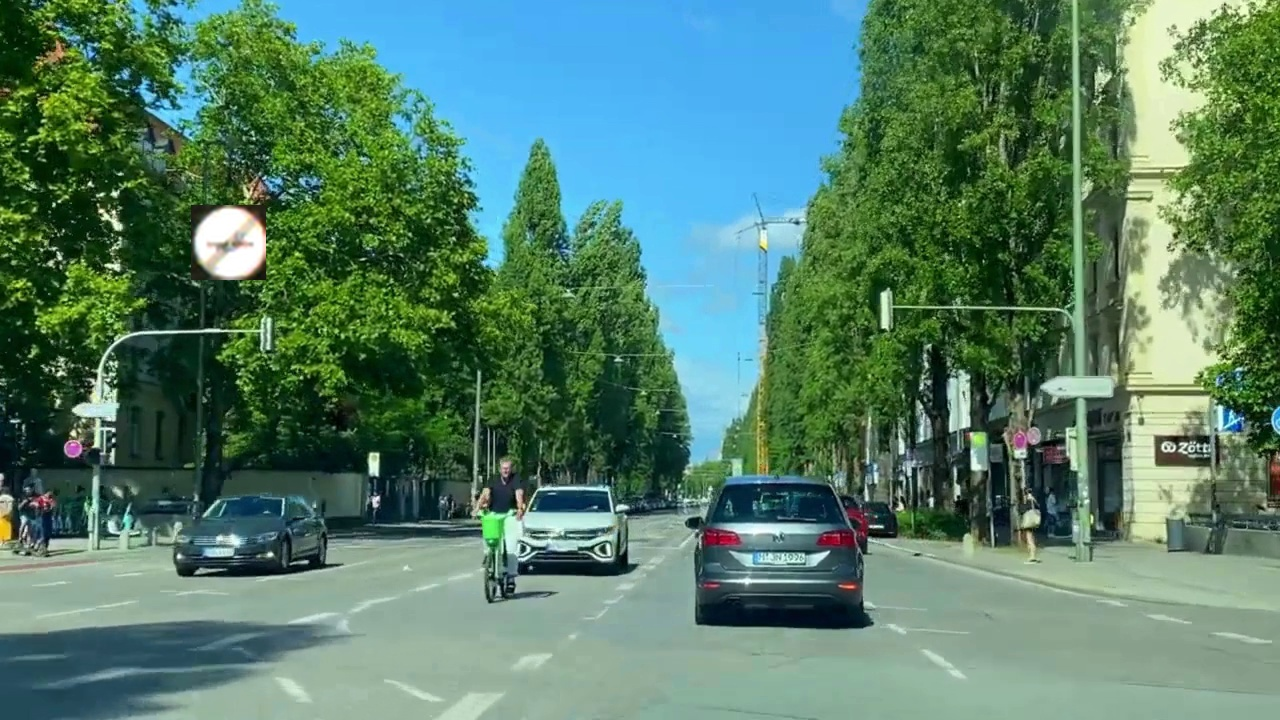End no pass: (191, 205, 266, 280)
